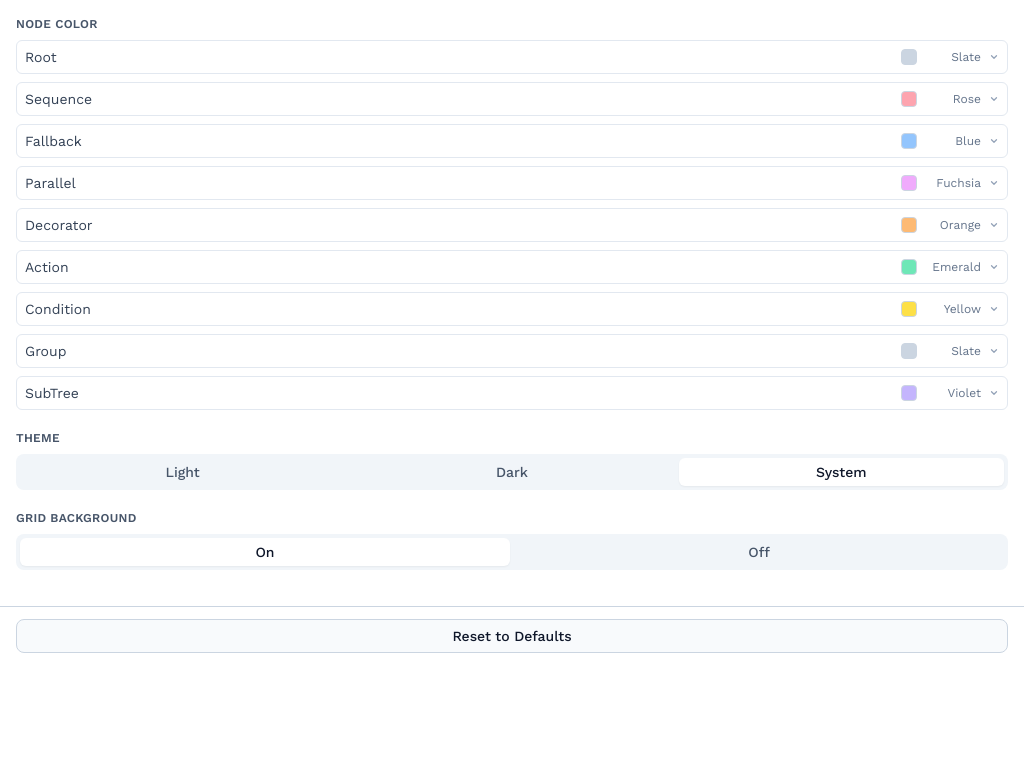
it: SettingsPanel (tab content) › Reset to Defaults: No leaves preferences alone
This screenshot has width=1024, height=768.
Click the button "Reset to Defaults" at (512, 636), box [16,619,1008,653]
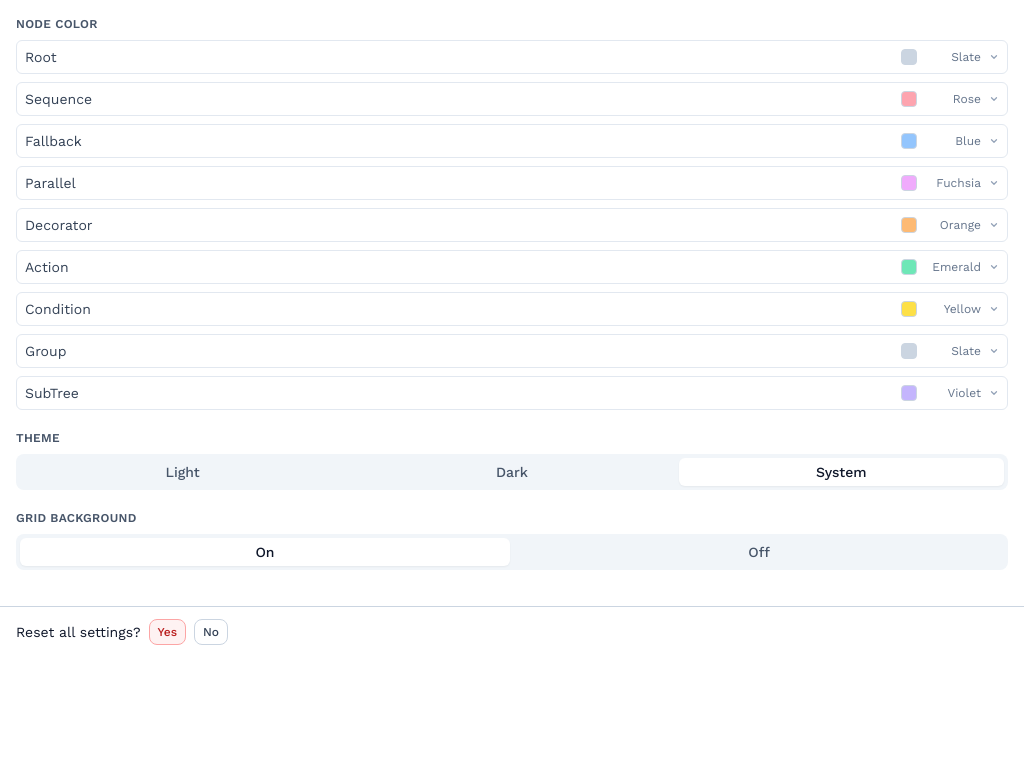
Click the button "No" at (211, 632), box [194,619,228,645]
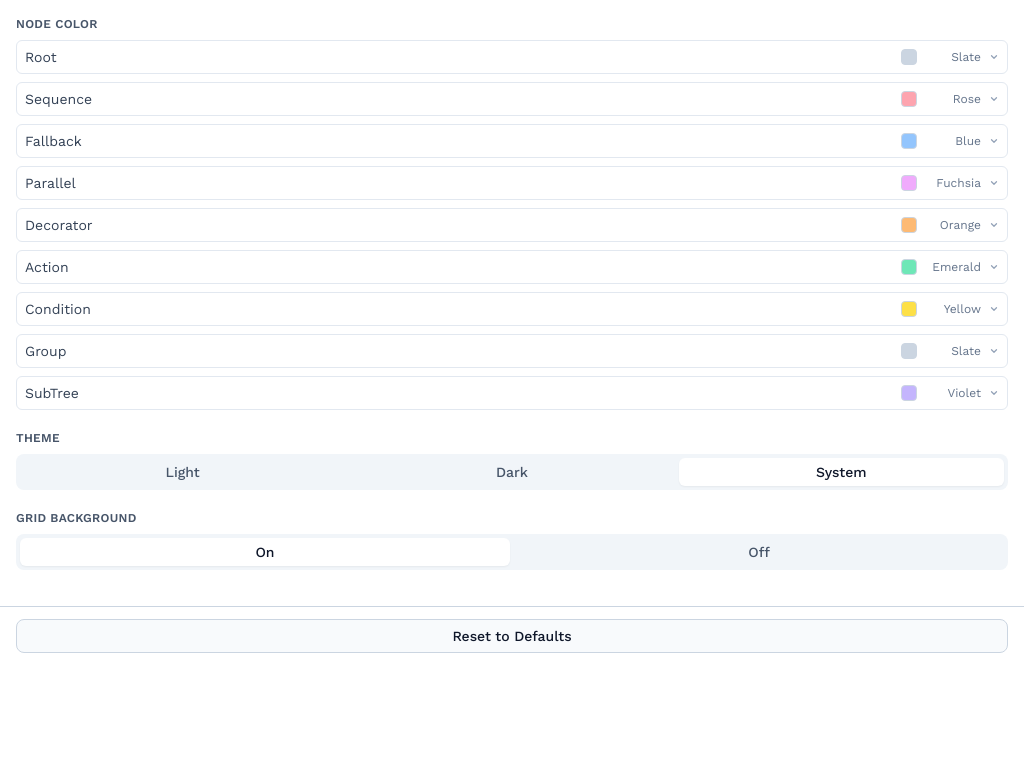
Now the button "Reset to Defaults" is shown, box [16,619,1008,653]
